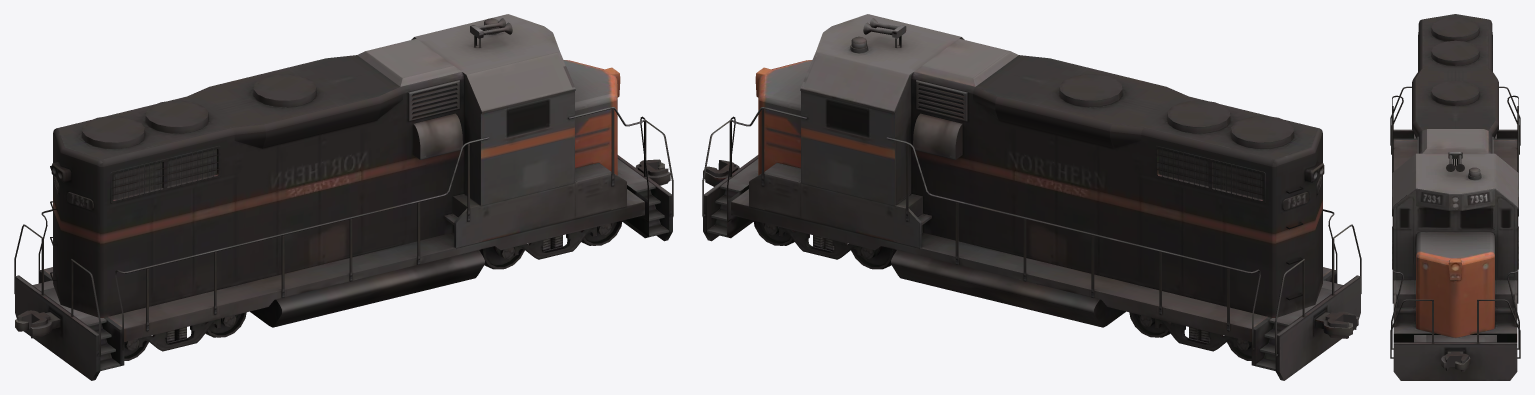
The picture shows the model from 3 angles, left to right: view 1: azimuth 30°, elevation 25°; view 2: azimuth 150°, elevation 25°; view 3: azimuth 270°, elevation 25°; orthographic projection. The views are drawn at different scales.
Parts seen in each view (by area): view 1: body0_model0_lod0_mesh0; view 2: body0_model0_lod0_mesh0; view 3: body0_model0_lod0_mesh0.
Boxes of the visible parts, x1=… form: body0_model0_lod0_mesh0: x1=14, y1=14, x2=673, y2=380; body0_model0_lod0_mesh0: x1=702, y1=14, x2=1361, y2=380; body0_model0_lod0_mesh0: x1=1390, y1=14, x2=1520, y2=380.
Size of the model in its own units: 611 by 207 by 140.
1 material, 1 textured.
